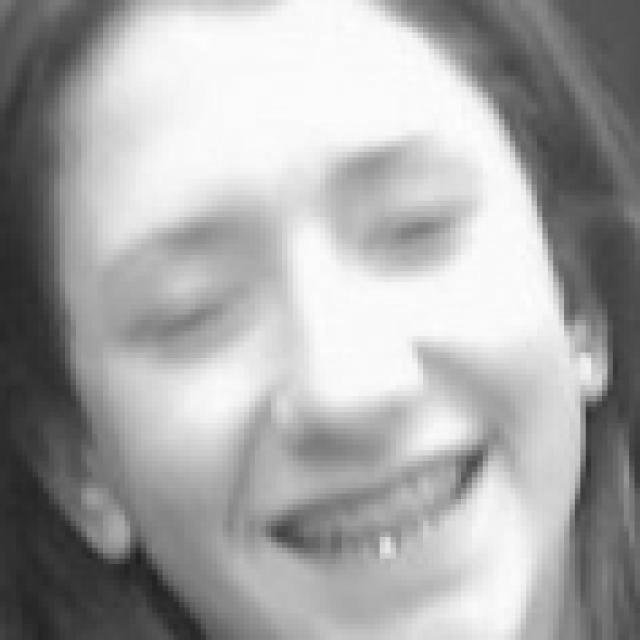real: (62, 1, 579, 640), (121, 194, 492, 348)
